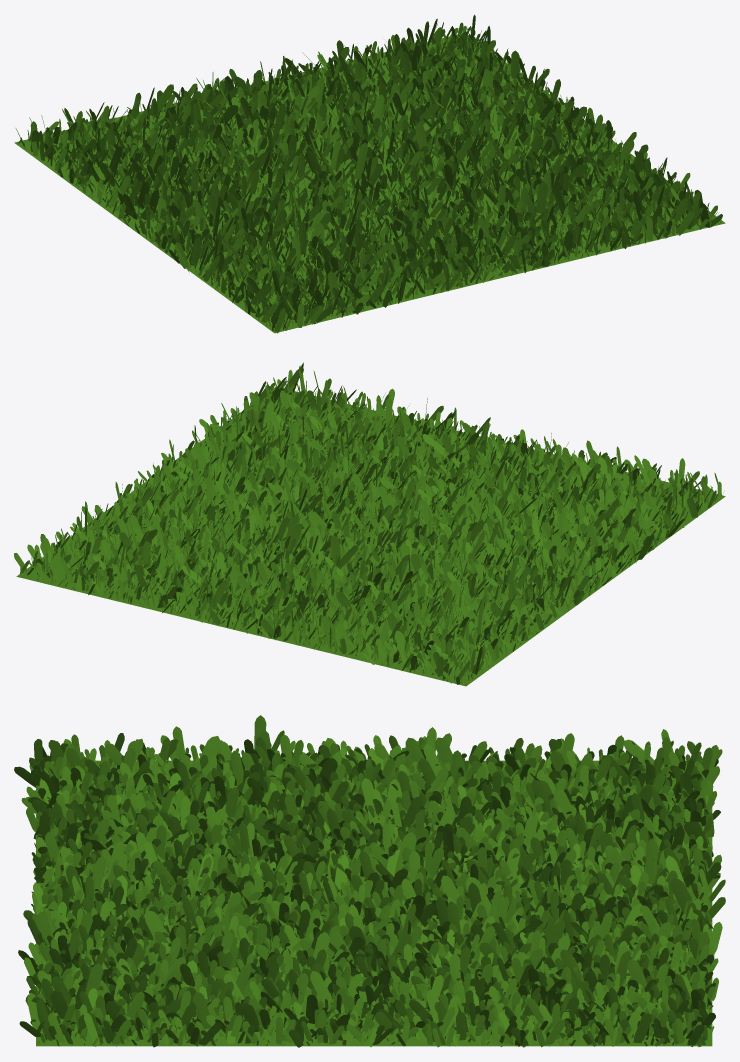
The model's file is cow.glb.
3 renders of one model, top to bottom at view 1: azimuth 30°, elevation 25°; view 2: azimuth 150°, elevation 25°; view 3: azimuth 270°, elevation 25°, orthographic. The views are drawn at different scales.
Parts seen in each view (by area): view 1: Cow grass; view 2: Cow grass; view 3: Cow grass.
Part boxes in pixels (x1,y1,x2,y2): Cow grass: (14, 14, 725, 333); Cow grass: (14, 362, 725, 686); Cow grass: (14, 715, 725, 1047).
Bounding box in the file's own units: 2.1 × 0.1575 × 2.11.
